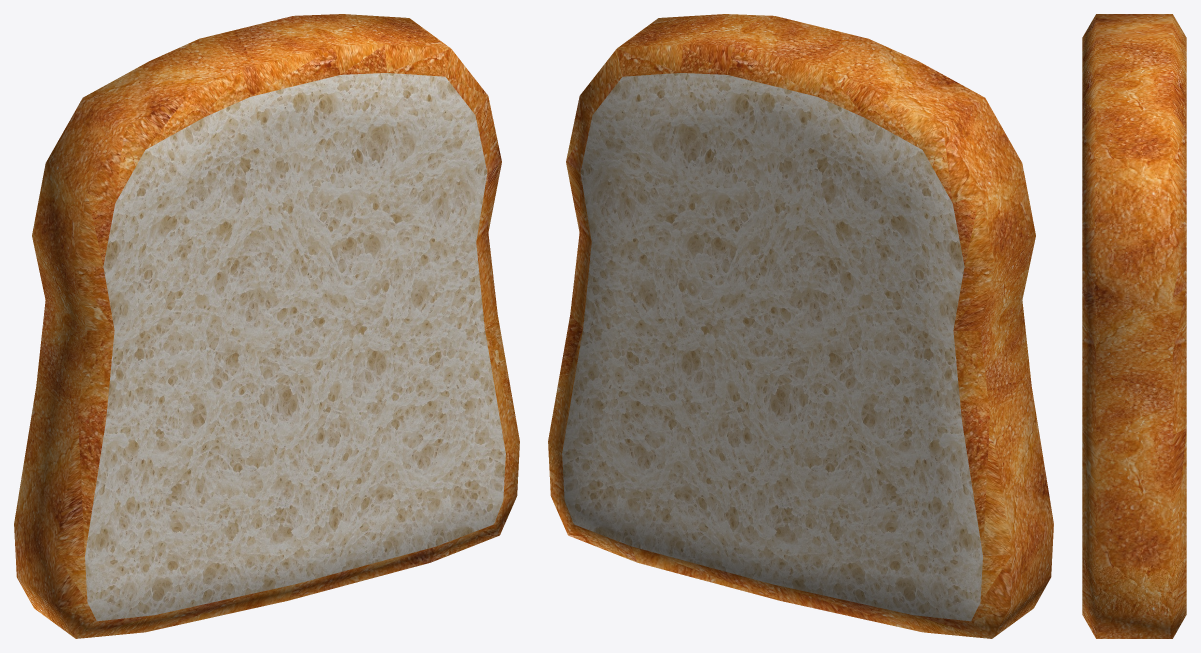
The model's file is bread-slice.glb.
The picture shows the model from 3 angles, left to right: view 1: azimuth 30°, elevation 25°; view 2: azimuth 150°, elevation 25°; view 3: azimuth 270°, elevation 25°; orthographic projection. The views are drawn at different scales.
Visible parts, largest first — view 1: White bread with porous crumb; view 2: White bread with porous crumb; view 3: White bread with porous crumb.
Boxes of the visible parts, x1,y1,x2,y2 form: White bread with porous crumb: (14,14,519,638); White bread with porous crumb: (548,14,1053,638); White bread with porous crumb: (1082,14,1186,638).
Bounding box in the file's own units: 0.4612 × 0.5155 × 0.0979.
Materials: 2 (2 with a texture image).
